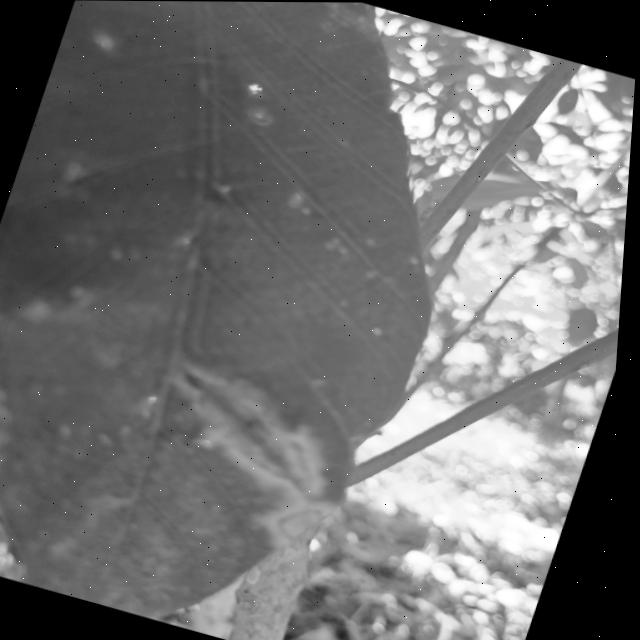Leaf-Blight: (166, 373, 344, 496), (280, 499, 331, 544)
